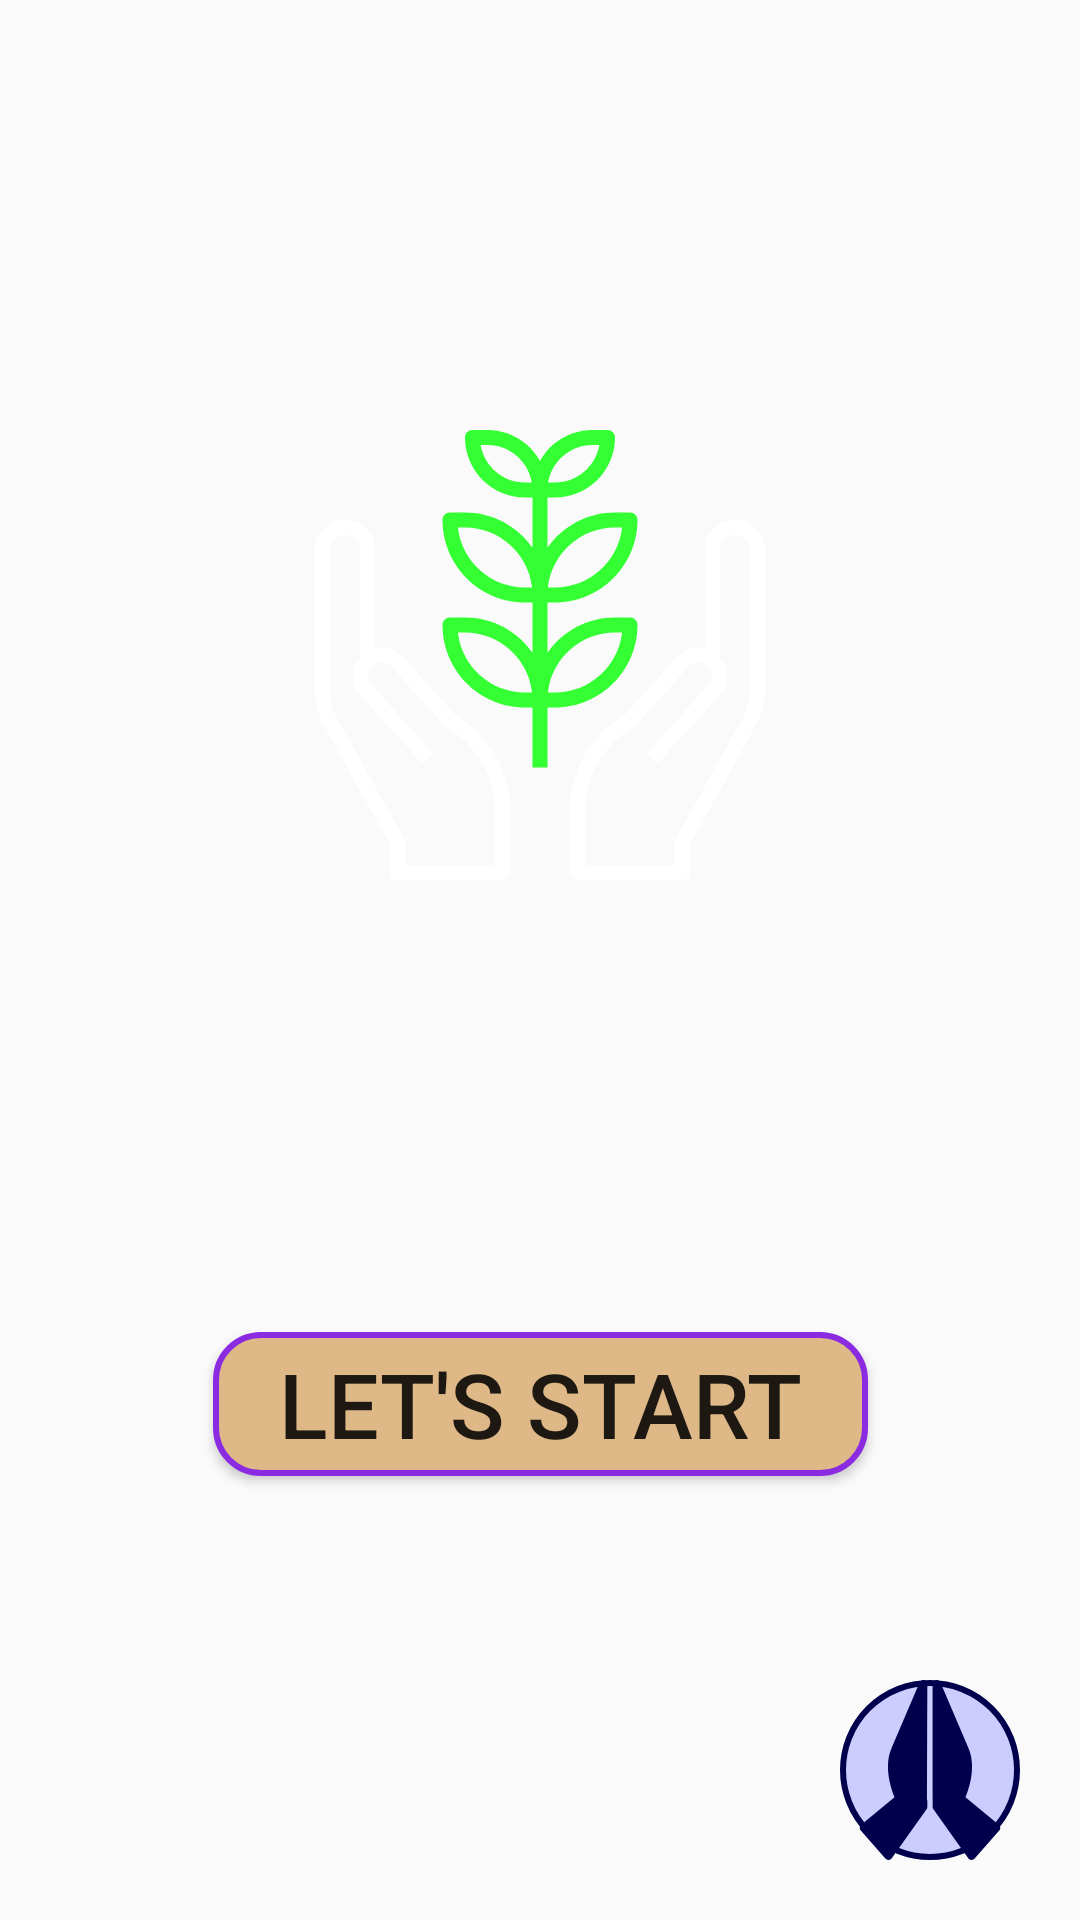

Icons on this 1080x1920 Android screen, each with its box as (x1, y1, x2, y2):
ecology: (442, 430, 638, 768)
namaste: (840, 1680, 1020, 1860)
